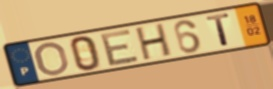0: (69, 34, 103, 72)
6: (172, 18, 203, 56)
E: (99, 27, 142, 68)
H: (135, 21, 174, 62)
O: (34, 41, 72, 77)
T: (204, 11, 233, 47)
